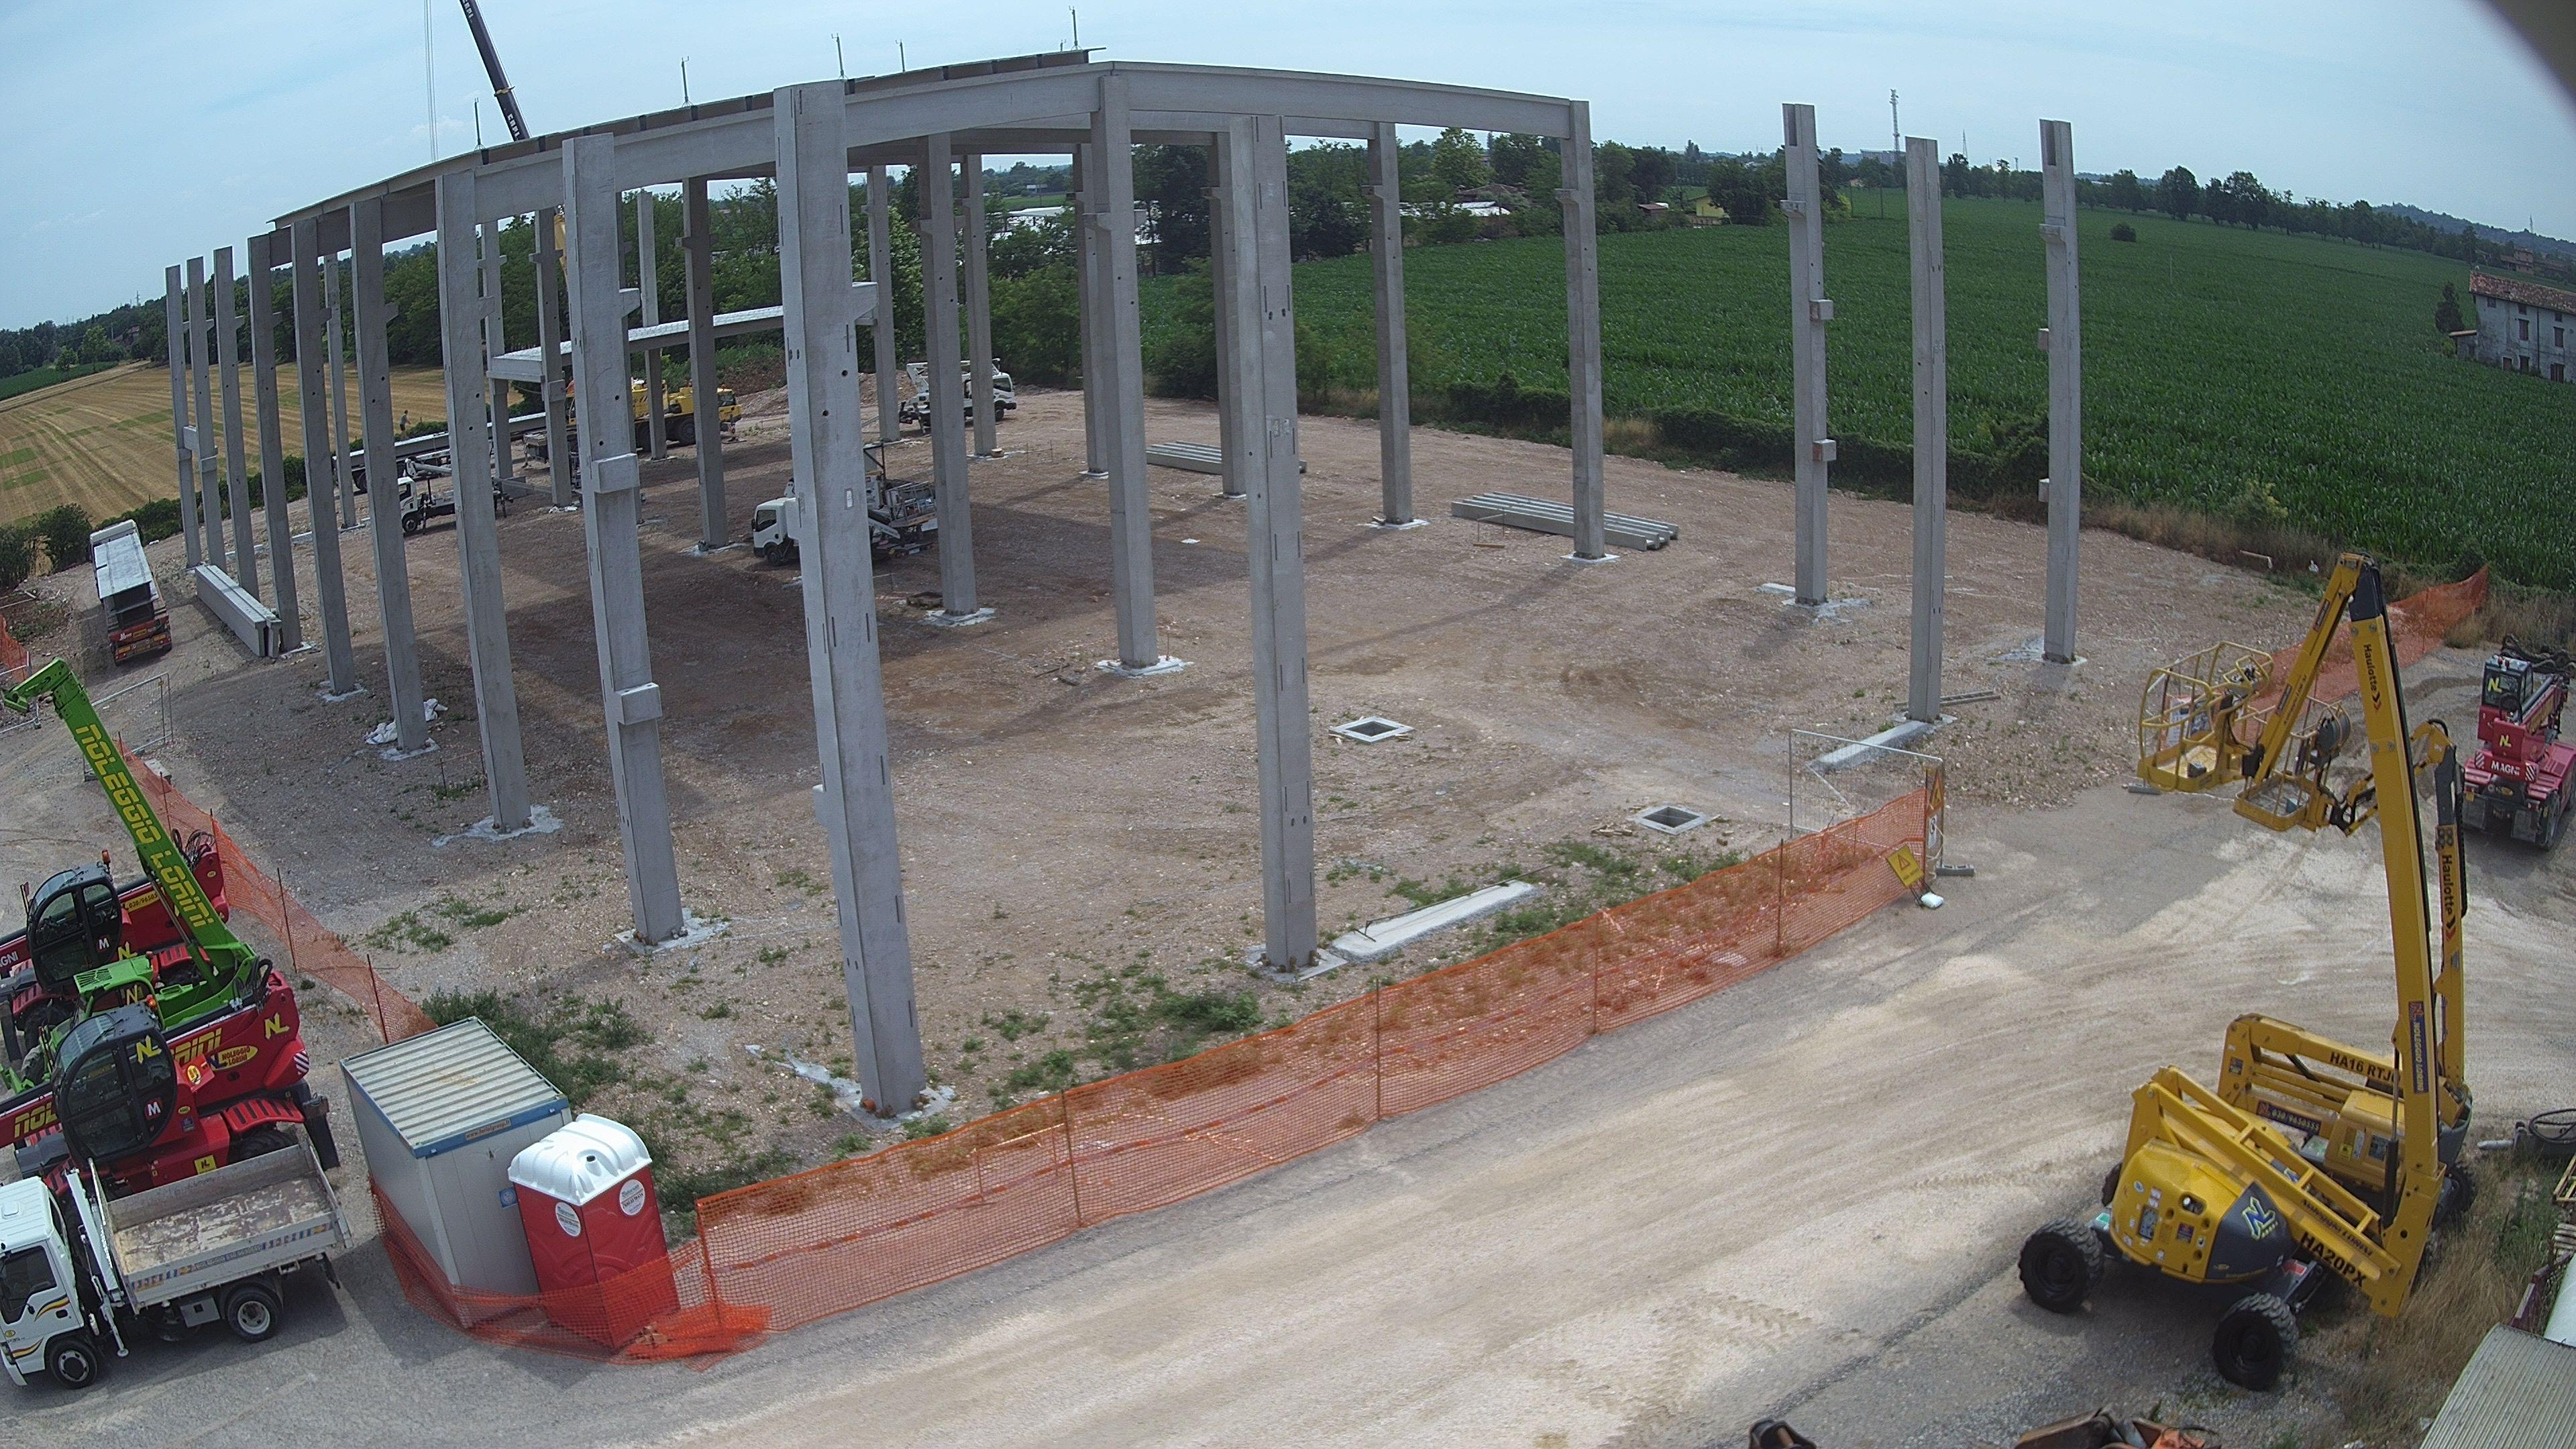Aerial platforms: (2015, 552, 2447, 1396), (0, 656, 260, 1093), (2212, 1012, 2408, 1219), (2406, 717, 2475, 1169), (2233, 715, 2378, 833), (396, 448, 456, 533), (750, 479, 800, 568), (869, 504, 938, 564), (897, 361, 931, 428), (494, 476, 552, 511), (993, 357, 1017, 421), (959, 361, 973, 419)
Trucks: (0, 1123, 350, 1394), (88, 520, 175, 665)
excavator: (0, 957, 343, 1242), (0, 828, 230, 1062), (2459, 655, 2576, 847), (522, 377, 743, 469), (458, 0, 531, 142), (548, 203, 570, 292)
